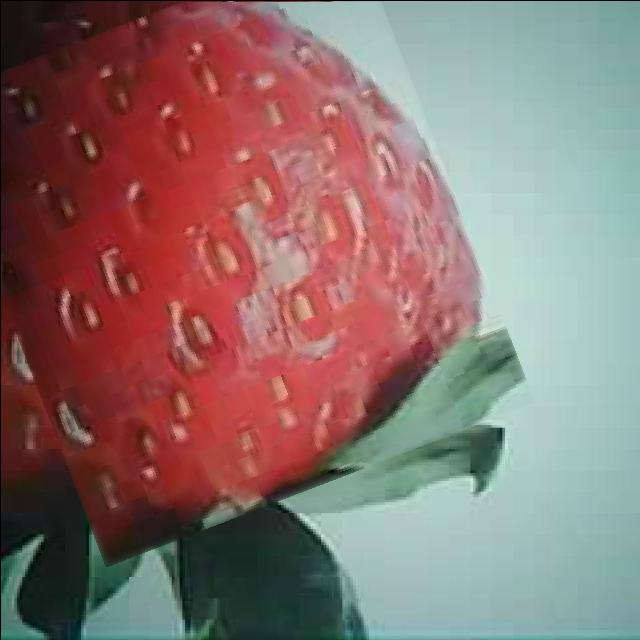strawberry: (0, 0, 497, 534)
